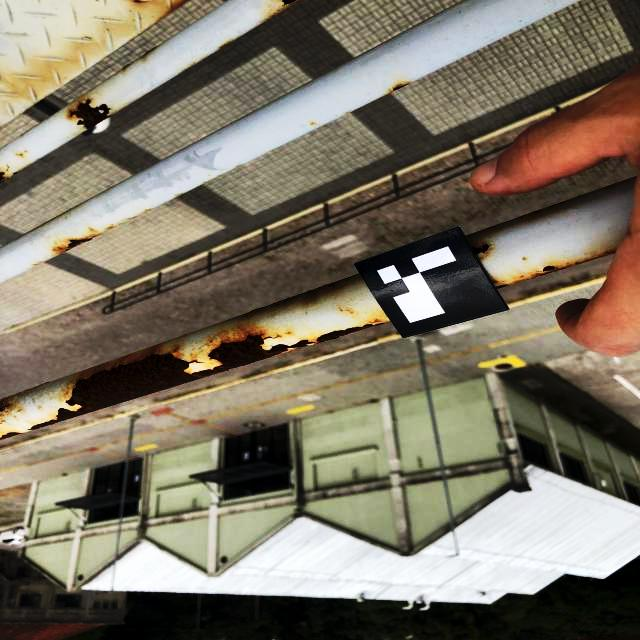Corrosion: (27, 322, 386, 430), (67, 100, 115, 129), (53, 238, 94, 253), (271, 0, 299, 17), (473, 242, 492, 255), (0, 432, 24, 440), (391, 83, 409, 91), (542, 265, 557, 273), (0, 403, 10, 414), (495, 284, 509, 290), (0, 173, 8, 183)
